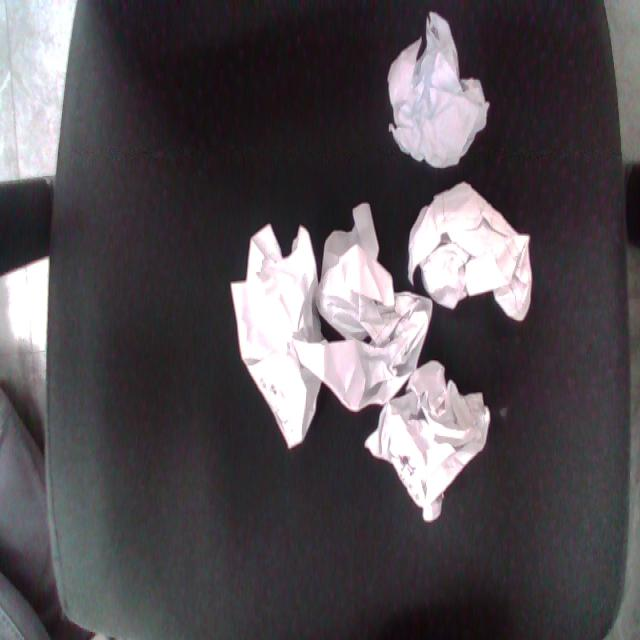paper: (322, 337, 537, 559), (310, 197, 451, 455), (226, 213, 332, 462), (379, 177, 549, 327), (381, 6, 505, 172)
